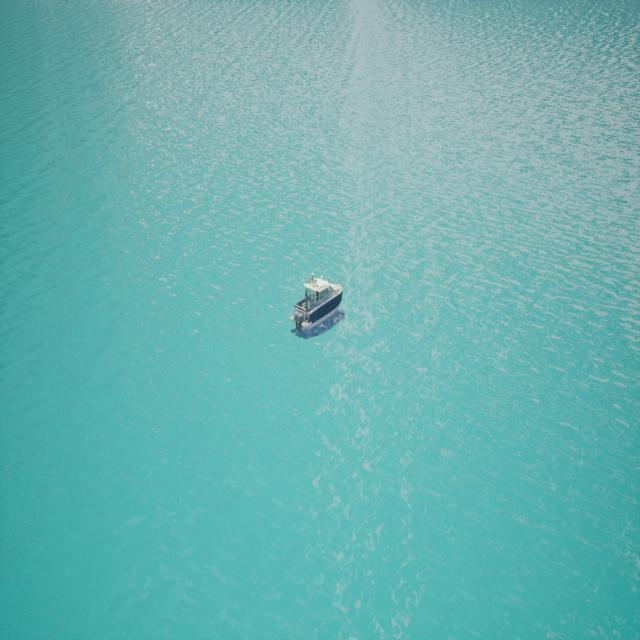ship: (292, 275, 344, 338)
